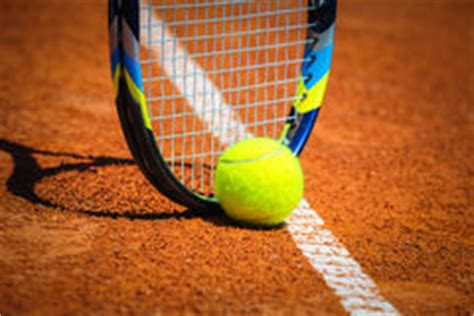tennis_ball: (215, 137, 304, 227)
